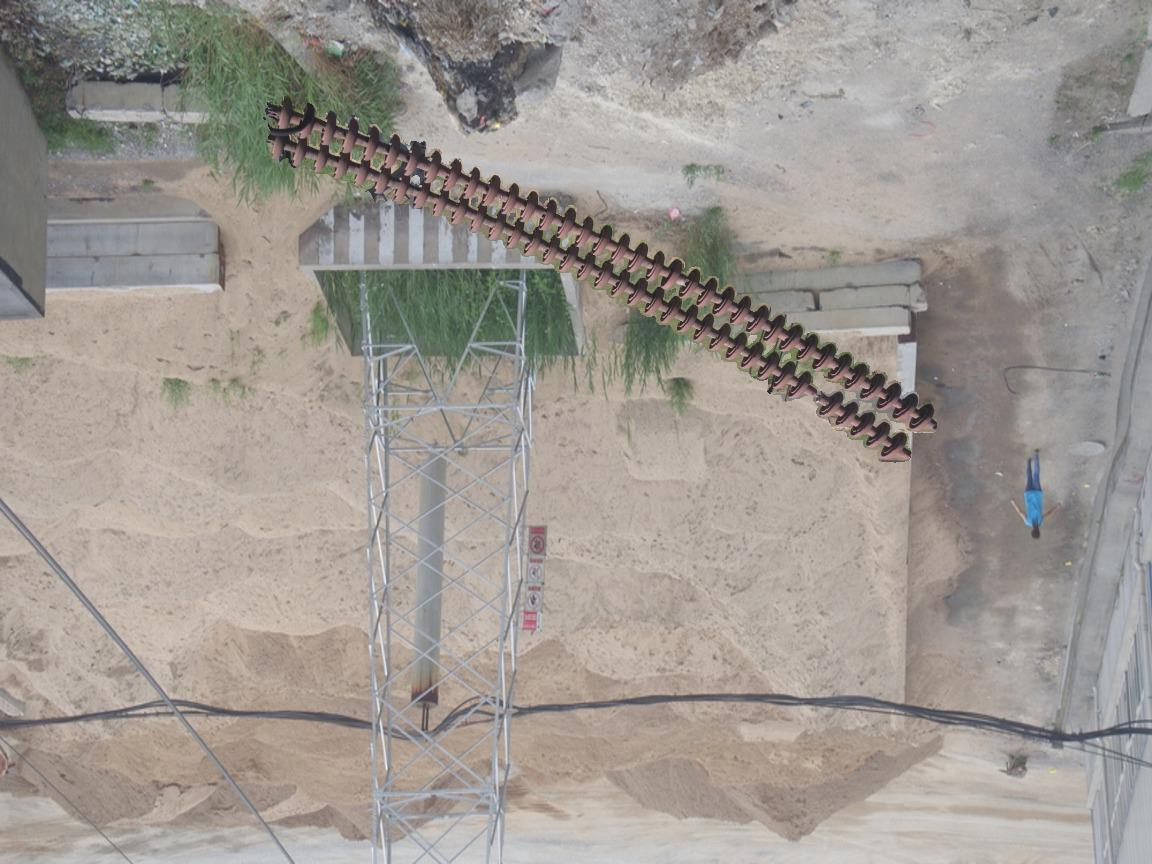insulator: (260, 95, 945, 468)
insulator_stringdrop: (783, 369, 847, 422)
